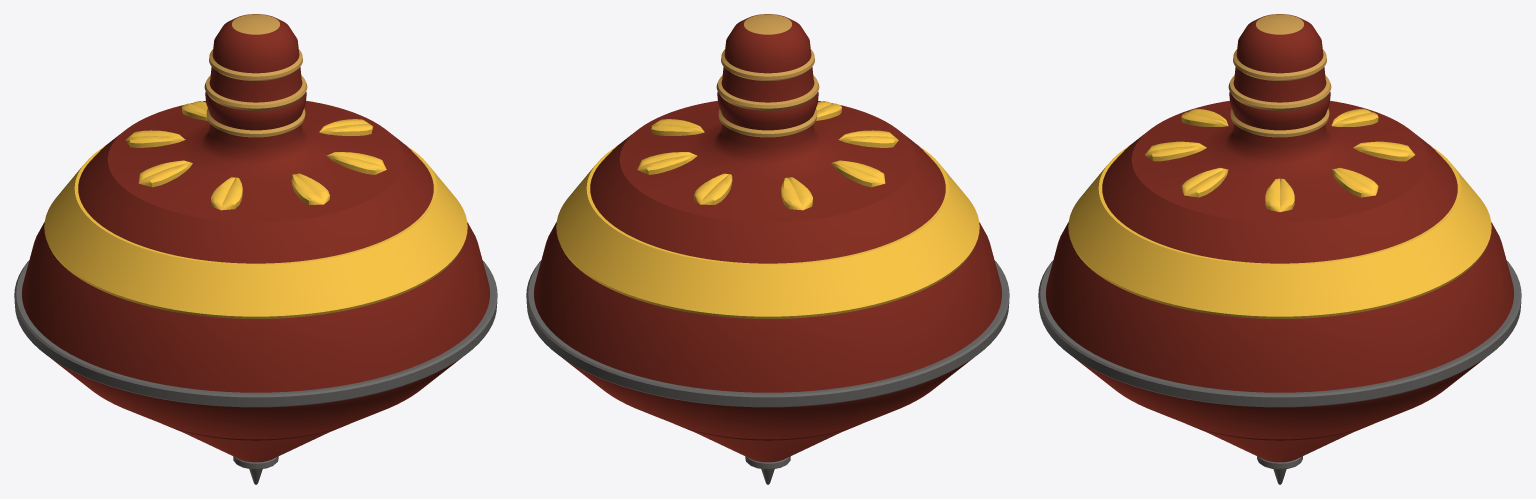
File: gasing_datuk.glb
The picture shows the model from 3 angles, left to right: view 1: azimuth 30°, elevation 25°; view 2: azimuth 150°, elevation 25°; view 3: azimuth 270°, elevation 25°; orthographic projection.
Visible parts, largest first — view 1: Gasing_datuk; view 2: Gasing_datuk; view 3: Gasing_datuk.
Boxes of the visible parts, <box> form: Gasing_datuk: <box>14,14,497,484</box>; Gasing_datuk: <box>526,14,1009,484</box>; Gasing_datuk: <box>1038,14,1521,484</box>.
Size of the model in its own units: 1.04 by 1.1 by 1.04.
